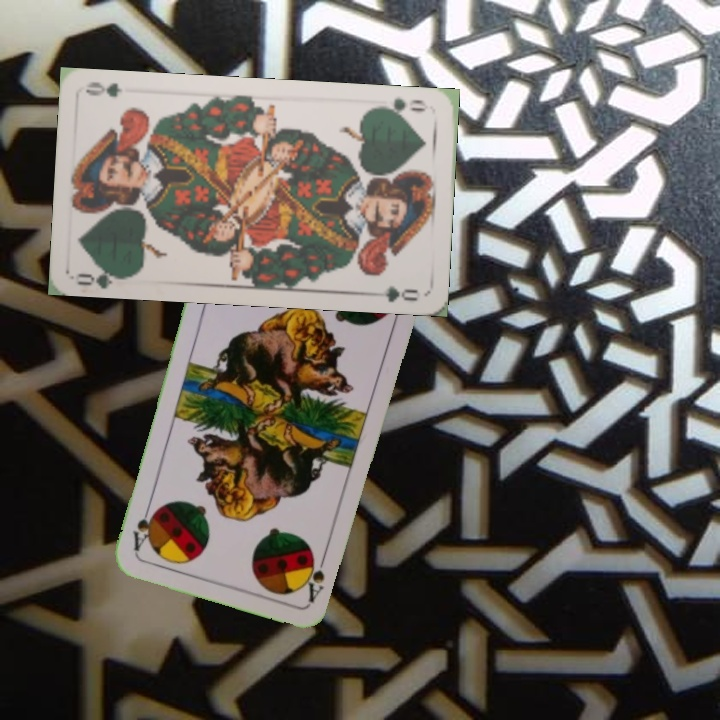GO: (73, 262, 133, 290), (373, 94, 431, 120)
SA: (301, 546, 330, 605)
